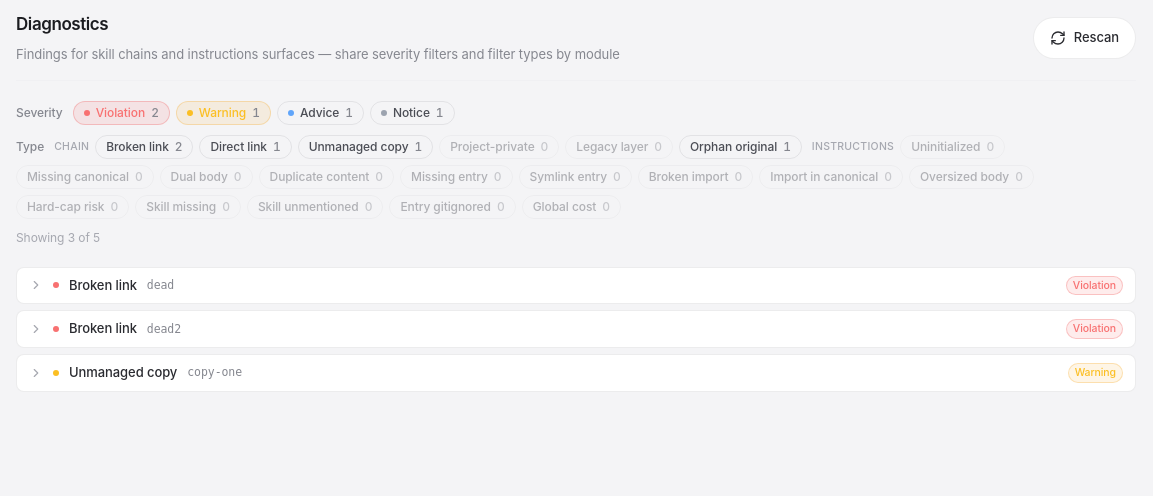
Test: ChainDoctor › opens on the actionable findings only
Click the button with test id "sev-violation" at [121, 112], box [73, 100, 170, 124]
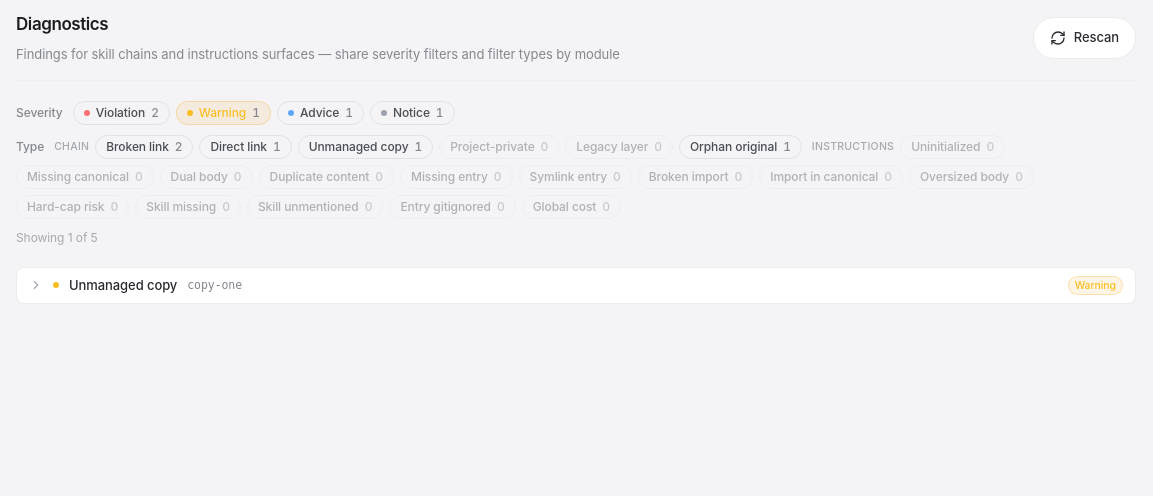
Click the button with test id "sev-warning" at [223, 112], box [176, 100, 271, 124]
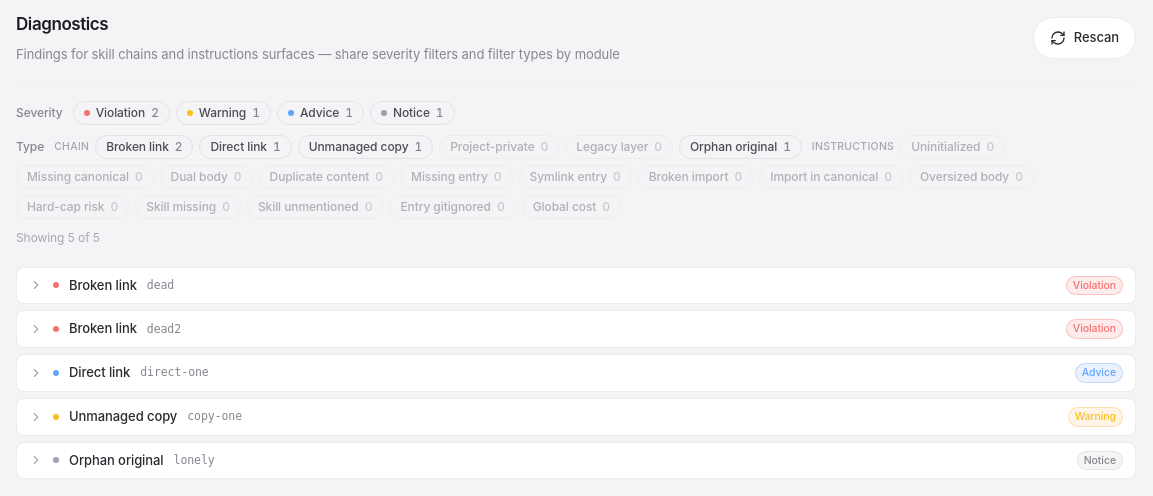
expect the number of elements with test id "finding" is 5: met, box [16, 266, 1136, 304]; [16, 310, 1136, 348]; [16, 354, 1136, 392]; [16, 398, 1136, 436]; [16, 442, 1136, 479]
